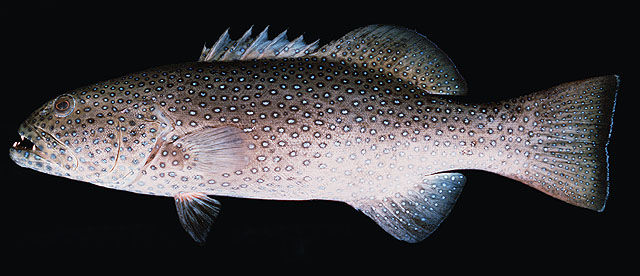fish: (9, 23, 621, 244)
